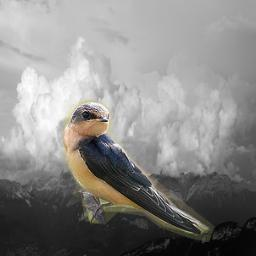Swallow: (62, 94, 216, 242)
